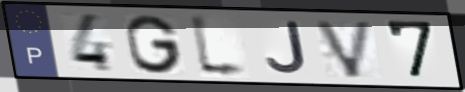4: (63, 11, 120, 74)
7: (382, 18, 437, 83)
G: (123, 13, 187, 76)
J: (263, 20, 310, 76)
L: (186, 11, 254, 81)
V: (311, 18, 377, 80)
